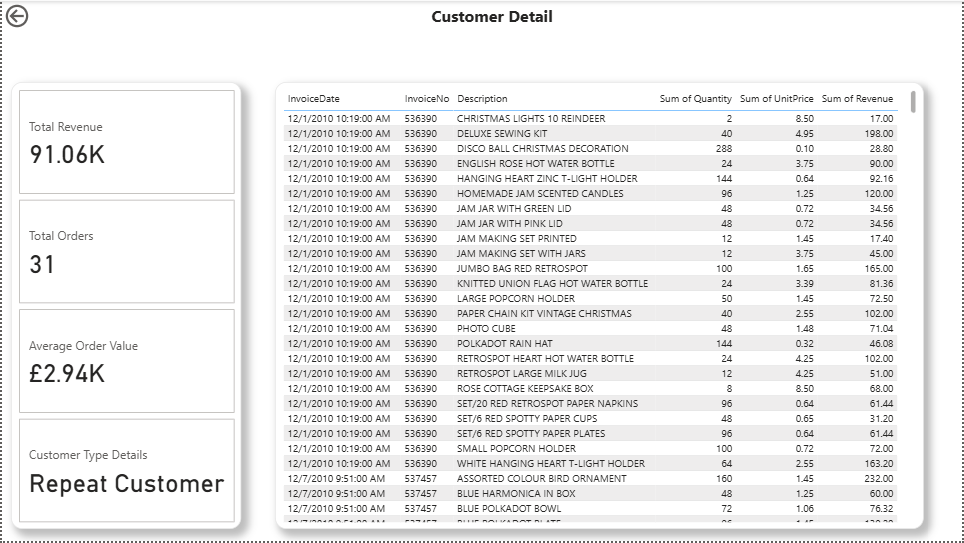

What the dashboard file says about the page in this screenshot:
{"tool":"powerbi","page":{"name":"Customer Detail","canvas":[1280,720],"ordinal":4},"visuals":[{"type":"actionButton","box":[0,0,100,40],"z":0},{"type":"cardVisual","fields":{"Data":["All Measures.Total Revenue","All Measures.Total Orders","All Measures.Average Order Value","All Measures.Customer Type Details"]},"box":[11.8,107.5,307.4,596.3],"z":1000},{"type":"tableEx","fields":{"Values":["customer_retention_powerbi.InvoiceDate","customer_retention_powerbi.InvoiceNo","customer_retention_powerbi.Description","Sum(customer_retention_powerbi.Quantity)","Sum(customer_retention_powerbi.UnitPrice)","Sum(customer_retention_powerbi.Revenue)"]},"box":[364.5,107.5,865.1,596.3],"z":2000},{"type":"textbox","box":[77.3,0,1152.3,53.8],"z":2001}]}

Visuals, with their boxes in screenshot pixels (x1, y1, x2, y2), scaled from the page's 1280x720 canvas onto the 964x543 screenshot:
actionButton: left=0, top=0, right=75, bottom=30
cardVisual - All Measures.Total Revenue x All Measures.Total Orders: left=9, top=81, right=240, bottom=531
tableEx - customer_retention_powerbi.InvoiceDate x customer_retention_powerbi.InvoiceNo: left=275, top=81, right=926, bottom=531
textbox: left=58, top=0, right=926, bottom=41
